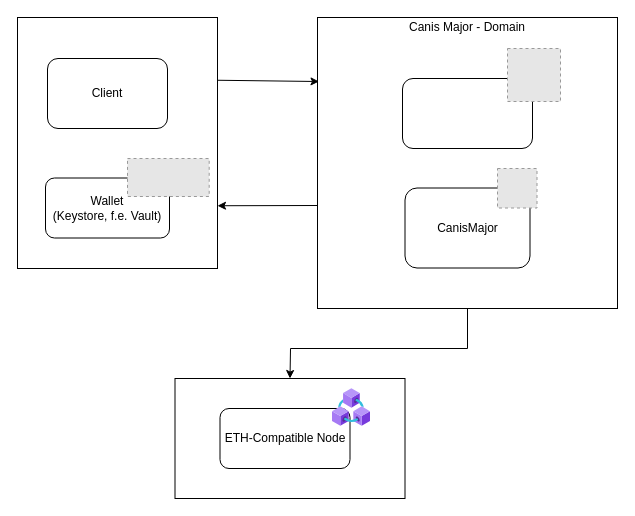
The diagram is 635 pixels wide and 516 high, and some of its shapes have lost their labels. Grey dashed boxes stand in for pictures. Each missing label, with the box of its shape:
Client-Domain: (16, 16, 218, 268)
ContextBroker (f.e. orion-ld): (402, 78, 532, 148)
Public: (174, 378, 405, 498)
